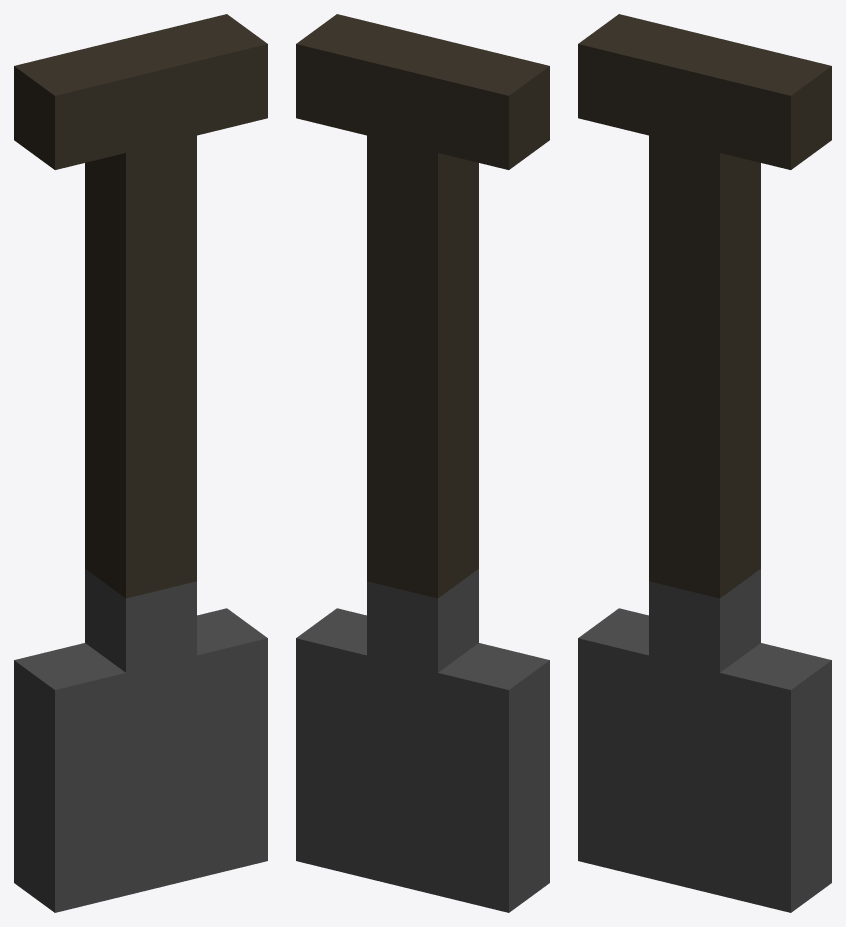
Rendered from farm-17-shovel.obj.
The picture shows the model from 3 angles, left to right: view 1: azimuth 30°, elevation 25°; view 2: azimuth 150°, elevation 25°; view 3: azimuth 330°, elevation 25°; orthographic projection.
Visible parts, largest first — view 1: shovel; view 2: shovel; view 3: shovel.
Boxes of the visible parts, x1,y1,x2,y2 form: shovel: (14,14,267,912); shovel: (296,14,549,912); shovel: (578,14,831,912).
Size of the model in its own units: 0.3 by 1.1 by 0.1.
Materials: 1 (1 with a texture image).
